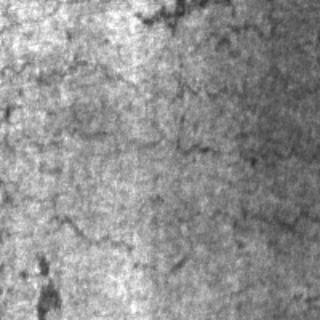crazing: (0, 59, 236, 163), (237, 10, 317, 230), (0, 132, 121, 248)
